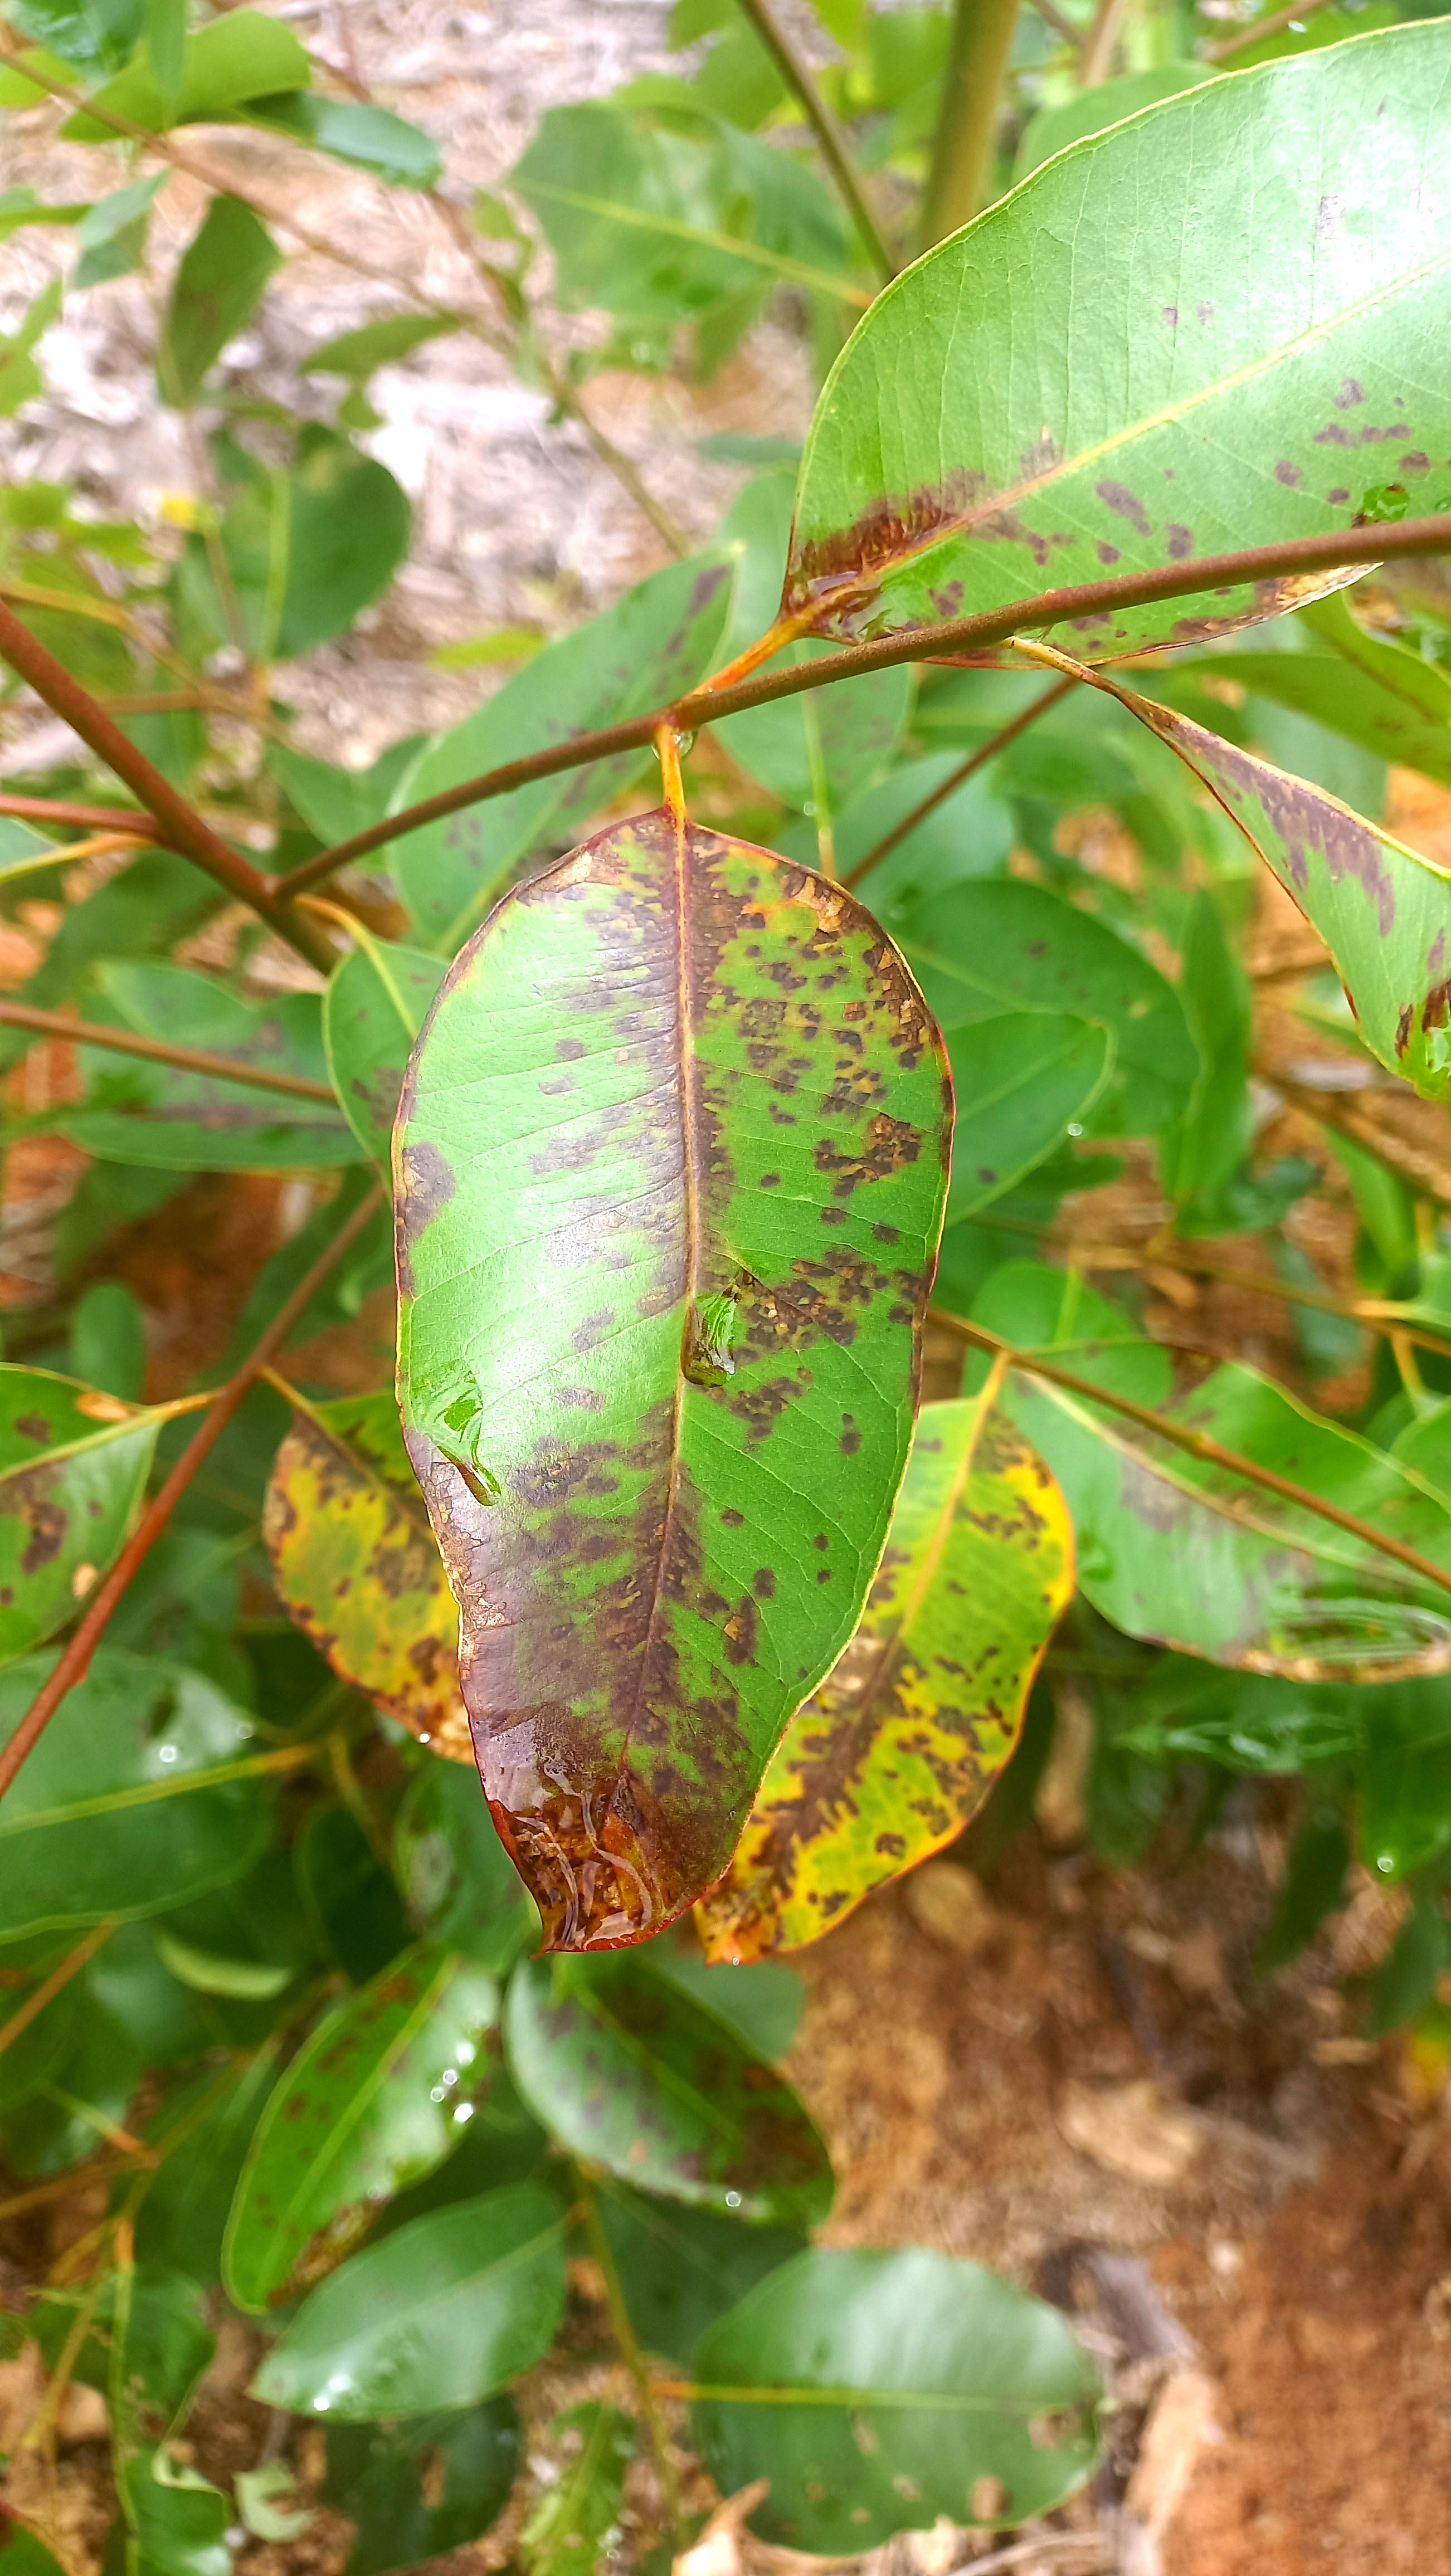Xanthomonas: (273, 793, 1081, 1948), (770, 352, 1451, 651), (1099, 686, 1451, 1053), (0, 1361, 163, 1681)
